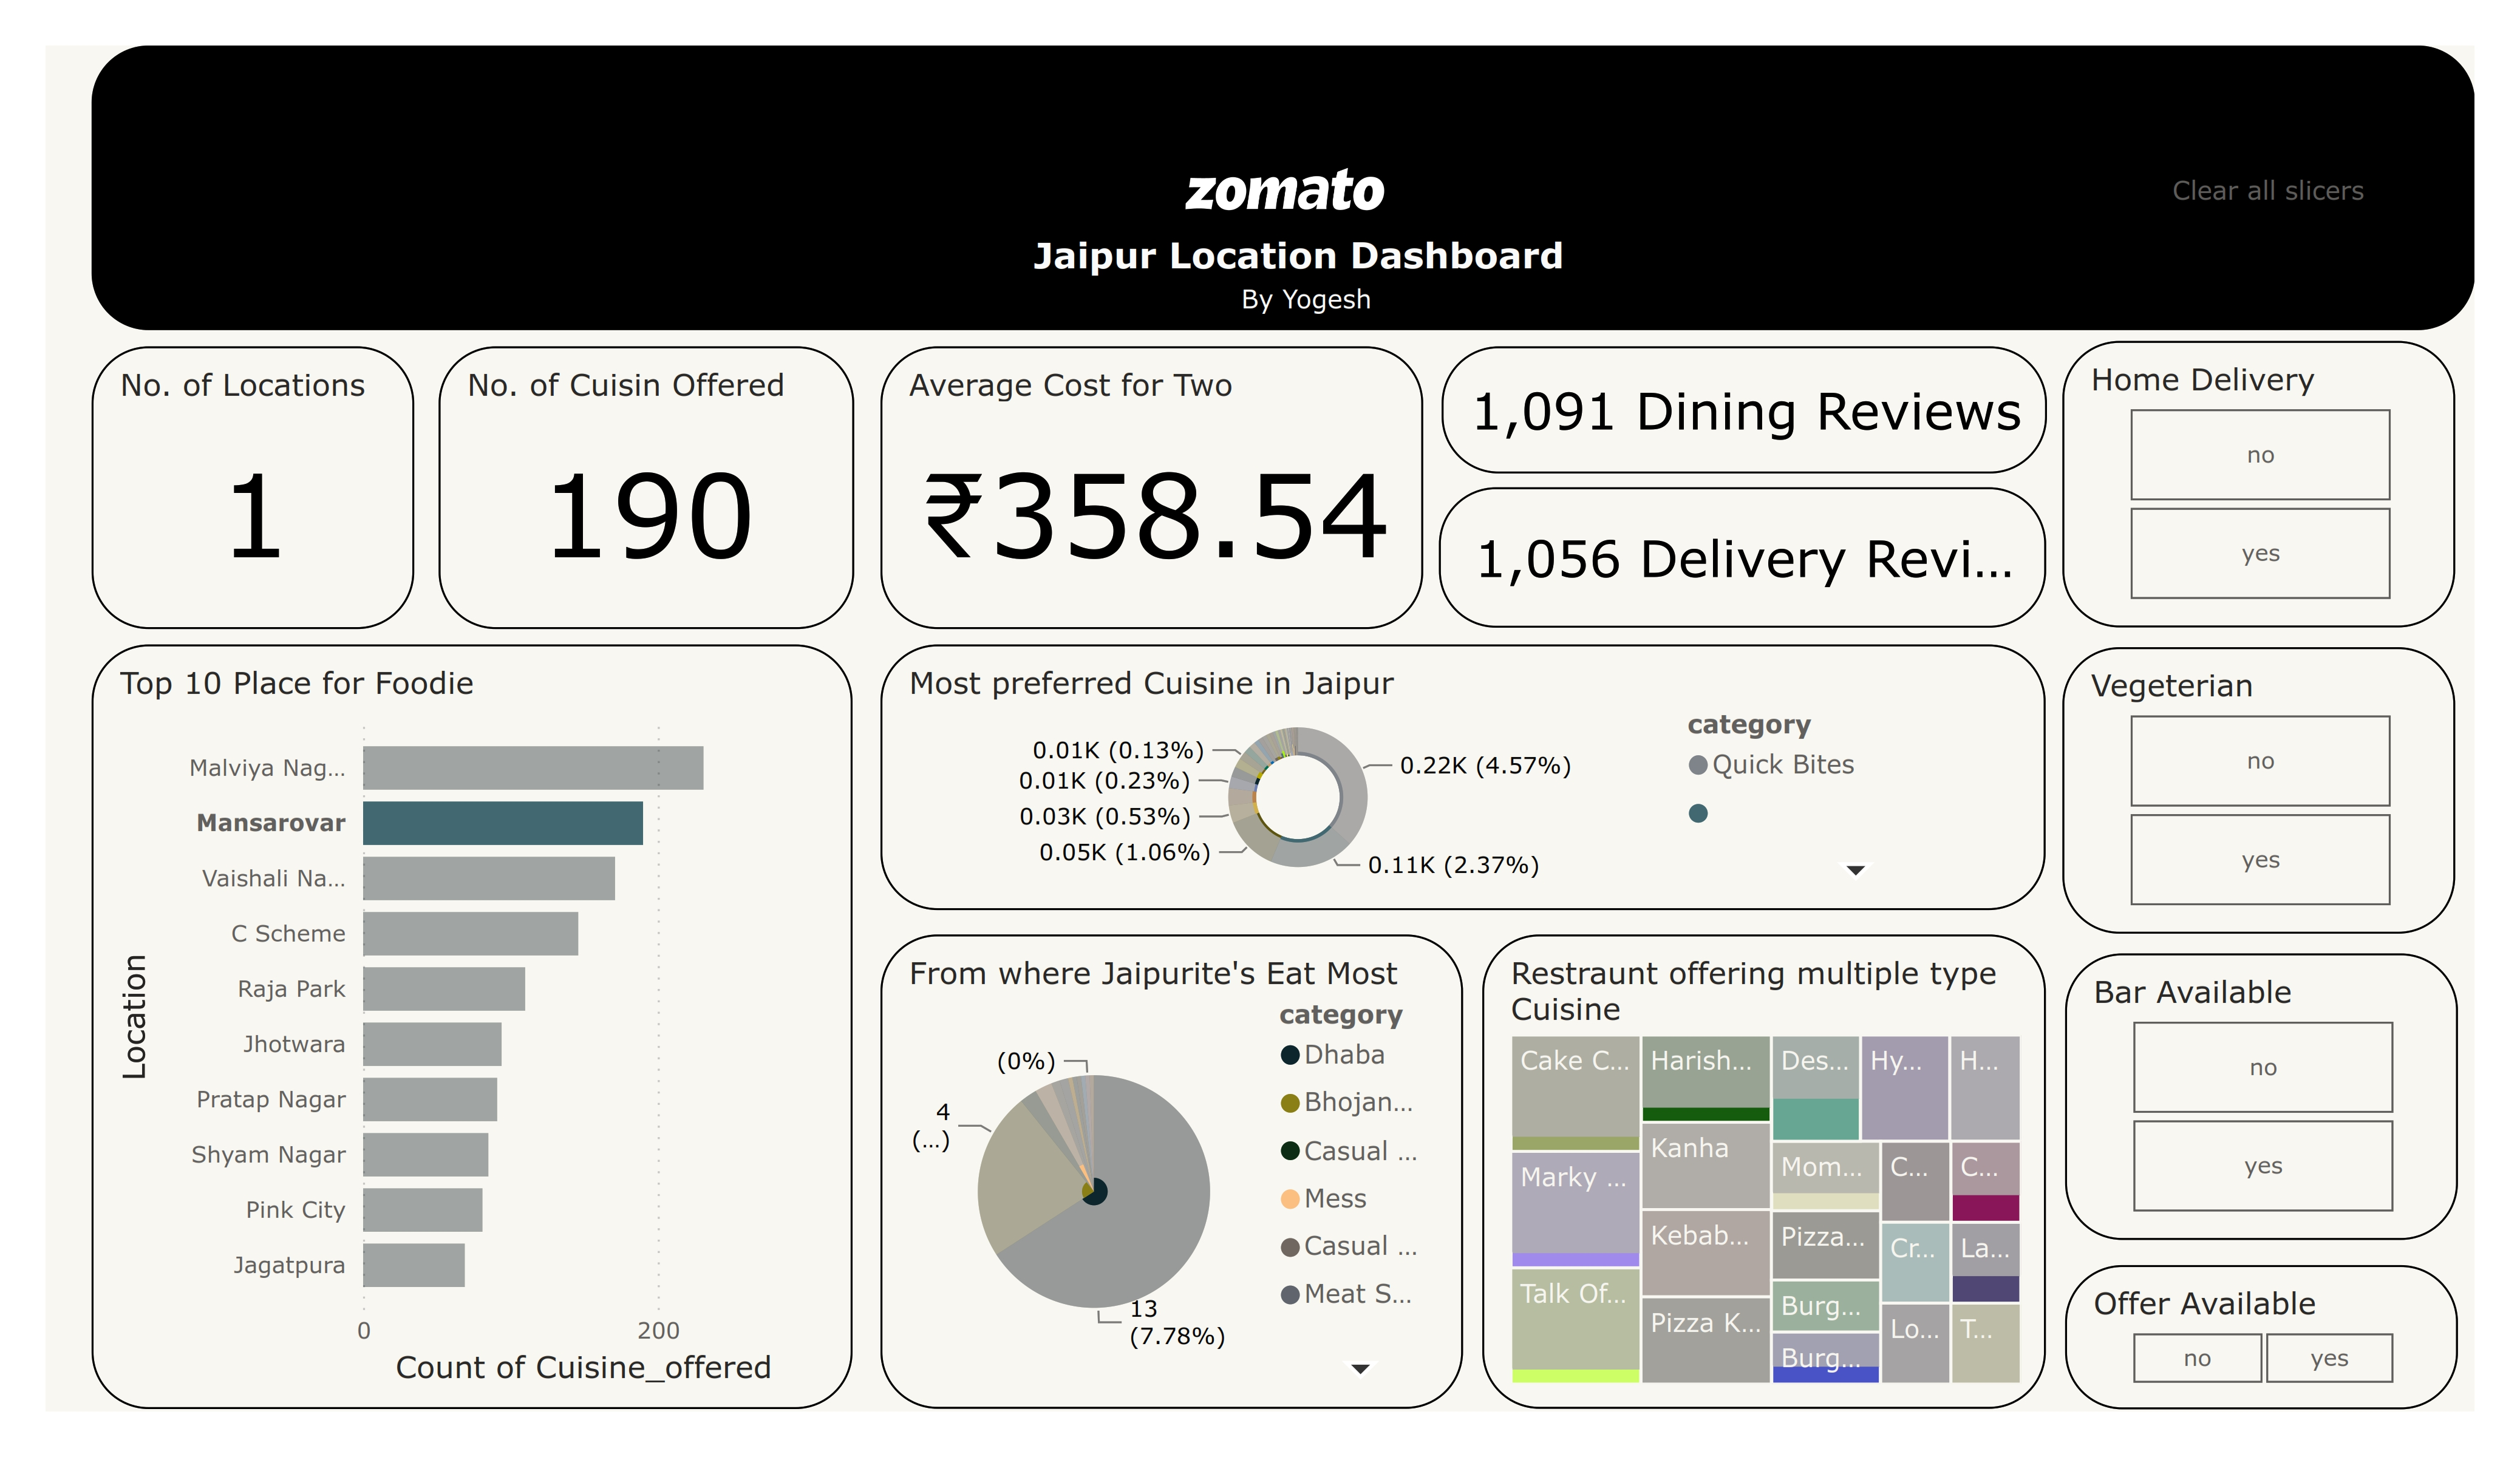

This screenshot's page, from the dashboard's own definition file:
{"tool":"powerbi","page":{"name":"Page 1","canvas":[1280,720],"ordinal":0},"visuals":[{"type":"card","title":"Average Cost for Two","fields":{"Values":["zom_jaipur.cost_for_two"]},"box":[439.6,158.6,285.7,148.6],"z":0},{"type":"card","title":"No. of Cuisin Offered","fields":{"Values":["zom_jaipur.Cuisine_offered"]},"box":[206.7,158.6,218.6,148.6],"z":1000},{"type":"card","title":"No. of Locations","fields":{"Values":["zom_jaipur.Location"]},"box":[24.3,158.6,170,148.6],"z":2000},{"type":"image","box":[24.3,0,1255.7,150],"z":3000},{"type":"textbox","title":"Jaipur Location Dashboard","box":[515.7,98.6,292.9,51.4],"z":4000},{"type":"slicer","title":"Bar Available","fields":{"Values":["zom_jaipur.is_bar_available"]},"box":[1064.3,478.6,207.1,151.4],"z":5000},{"type":"slicer","title":"Vegeterian","fields":{"Values":["zom_jaipur.is_vegeterian"]},"box":[1063.3,317.1,207.1,151.4],"z":6000},{"type":"slicer","title":"Home Delivery","fields":{"Values":["zom_jaipur.home_delivery"]},"box":[1063.3,155.7,207.1,151.4],"z":7000},{"type":"card","fields":{"Values":["zom_jaipur.del_rev"]},"box":[733.7,232.9,320,74.3],"z":8000},{"type":"card","fields":{"Values":["zom_jaipur.din_rev"]},"box":[735.1,158.6,318.6,67.1],"z":9000},{"type":"clusteredBarChart","title":"Top 10 Place for Foodie","fields":{"Category":["zom_jaipur.Location"],"Y":["zom_jaipur.Cuisine_offered"]},"box":[24.3,315.7,401.4,402.9],"z":10000},{"type":"slicer","title":"Offer Available","fields":{"Values":["zom_jaipur.offers_dining"]},"box":[1064.3,642.9,207.1,75.7],"z":11000},{"type":"pieChart","title":"From where Jaipurite''s Eat Most","fields":{"Category":["zom_jaipur.category"],"Y":["zom_jaipur.Cuisine_offered"]},"box":[440,468.6,307.1,250],"z":12000},{"type":"donutChart","title":"Most preferred Cuisine in Jaipur","fields":{"Category":["zom_jaipur.category"],"Y":["zom_jaipur.Cuisine_offered"]},"box":[440,315.7,614.3,140],"z":13000},{"type":"treemap","title":"Restraunt offering multiple type Cuisine","fields":{"Group":["zom_jaipur.Name"],"Values":["zom_jaipur.Cuisine_offered"]},"box":[757.1,468.6,297.1,250],"z":13001},{"type":"actionButton","box":[1071.4,51.4,200,50],"z":13002}]}

Visuals, with their boxes on the page's 1280x720 design canvas (x1, y1, x2, y2). These are canvas units, not pixel positions in the 2520x1457 screenshot, which may show the page scaled, cropped or inside an application window:
"Average Cost for Two" card: <region>440, 159, 725, 307</region>
"No. of Cuisin Offered" card: <region>207, 159, 425, 307</region>
"No. of Locations" card: <region>24, 159, 194, 307</region>
image: <region>24, 0, 1280, 150</region>
"Jaipur Location Dashboard" textbox: <region>516, 99, 809, 150</region>
"Bar Available" slicer: <region>1064, 479, 1271, 630</region>
"Vegeterian" slicer: <region>1063, 317, 1270, 468</region>
"Home Delivery" slicer: <region>1063, 156, 1270, 307</region>
card - zom_jaipur.del_rev: <region>734, 233, 1054, 307</region>
card - zom_jaipur.din_rev: <region>735, 159, 1054, 226</region>
"Top 10 Place for Foodie" clusteredBarChart: <region>24, 316, 426, 719</region>
"Offer Available" slicer: <region>1064, 643, 1271, 719</region>
"From where Jaipurite''s Eat Most" pieChart: <region>440, 469, 747, 719</region>
"Most preferred Cuisine in Jaipur" donutChart: <region>440, 316, 1054, 456</region>
"Restraunt offering multiple type Cuisine" treemap: <region>757, 469, 1054, 719</region>
actionButton: <region>1071, 51, 1271, 101</region>
